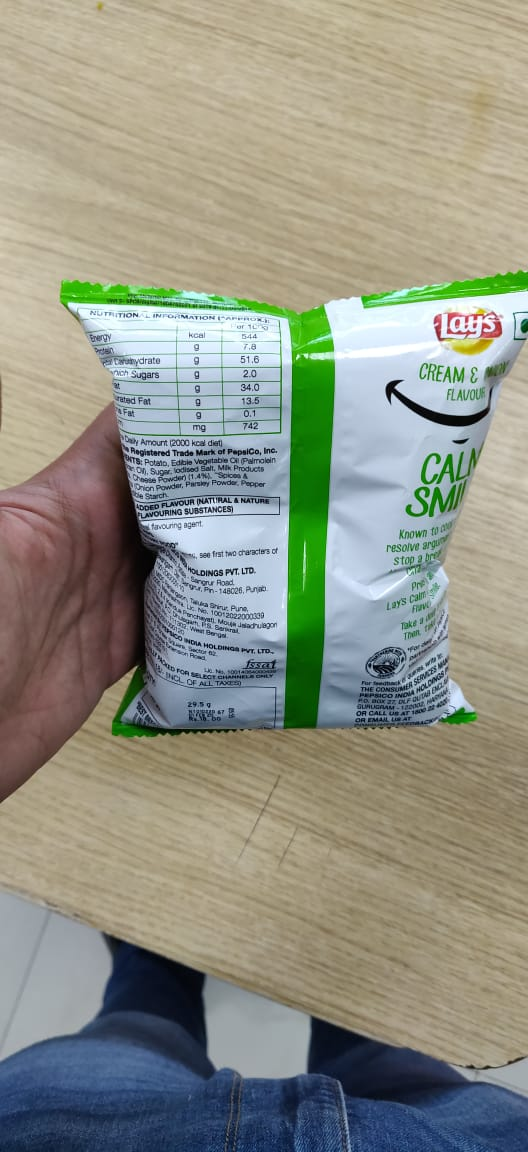lays chips: (52, 237, 528, 787)
